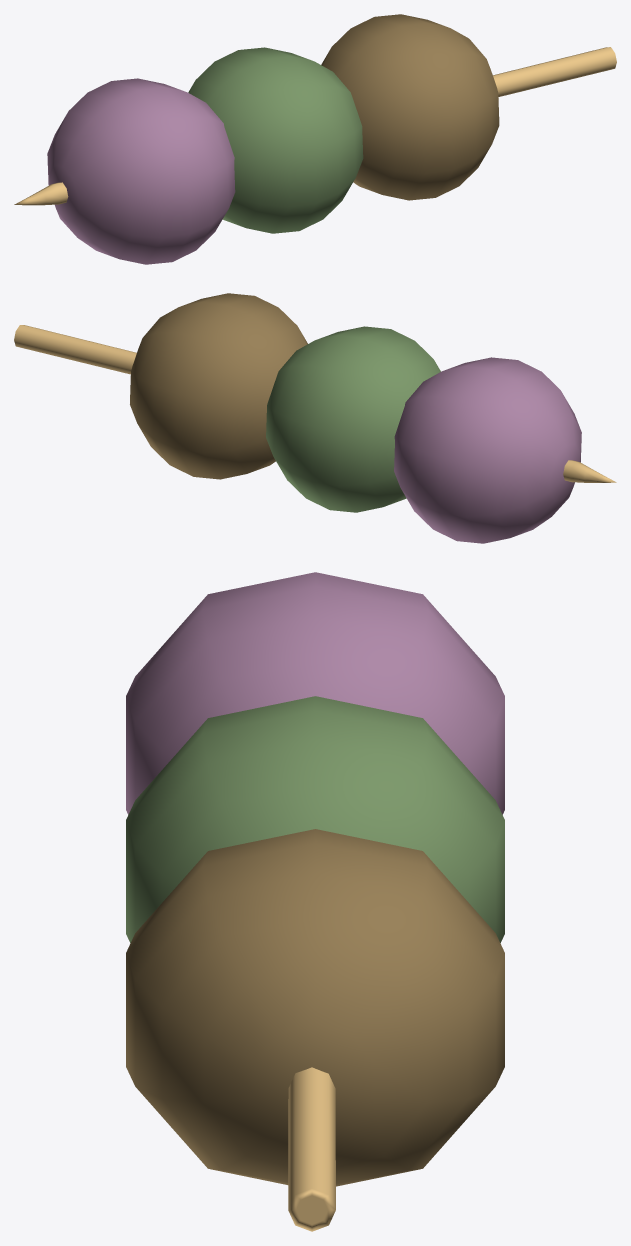
The model's file is odango.fbx.
The picture shows the model from 3 angles, top to bottom: view 1: azimuth 30°, elevation 25°; view 2: azimuth 150°, elevation 25°; view 3: azimuth 270°, elevation 25°; orthographic projection. The views are drawn at different scales.
Visible parts, largest first — view 1: pSphere4, pSphere2, pSphere3, pCylinder1; view 2: pSphere4, pSphere2, pSphere3, pCylinder1; view 3: pSphere2, pSphere3, pSphere4, pCylinder1.
Part boxes in pixels (bbox=[...]): pSphere4: bbox=[47, 78, 235, 264]; pSphere2: bbox=[321, 14, 499, 200]; pSphere3: bbox=[188, 47, 363, 233]; pCylinder1: bbox=[14, 47, 616, 205]; pSphere4: bbox=[394, 357, 581, 543]; pSphere2: bbox=[130, 293, 307, 479]; pSphere3: bbox=[266, 326, 440, 512]; pCylinder1: bbox=[14, 325, 616, 482]; pSphere2: bbox=[126, 829, 504, 1186]; pSphere3: bbox=[126, 696, 504, 942]; pSphere4: bbox=[126, 572, 504, 814]; pCylinder1: bbox=[288, 1067, 335, 1231].
Size of the model in its own units: 2.52 by 0.6611 by 0.6939.
